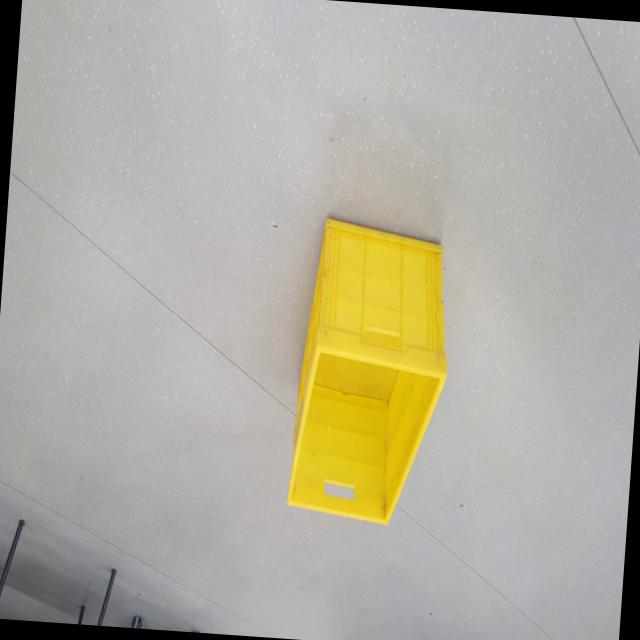box: (284, 212, 460, 530)
